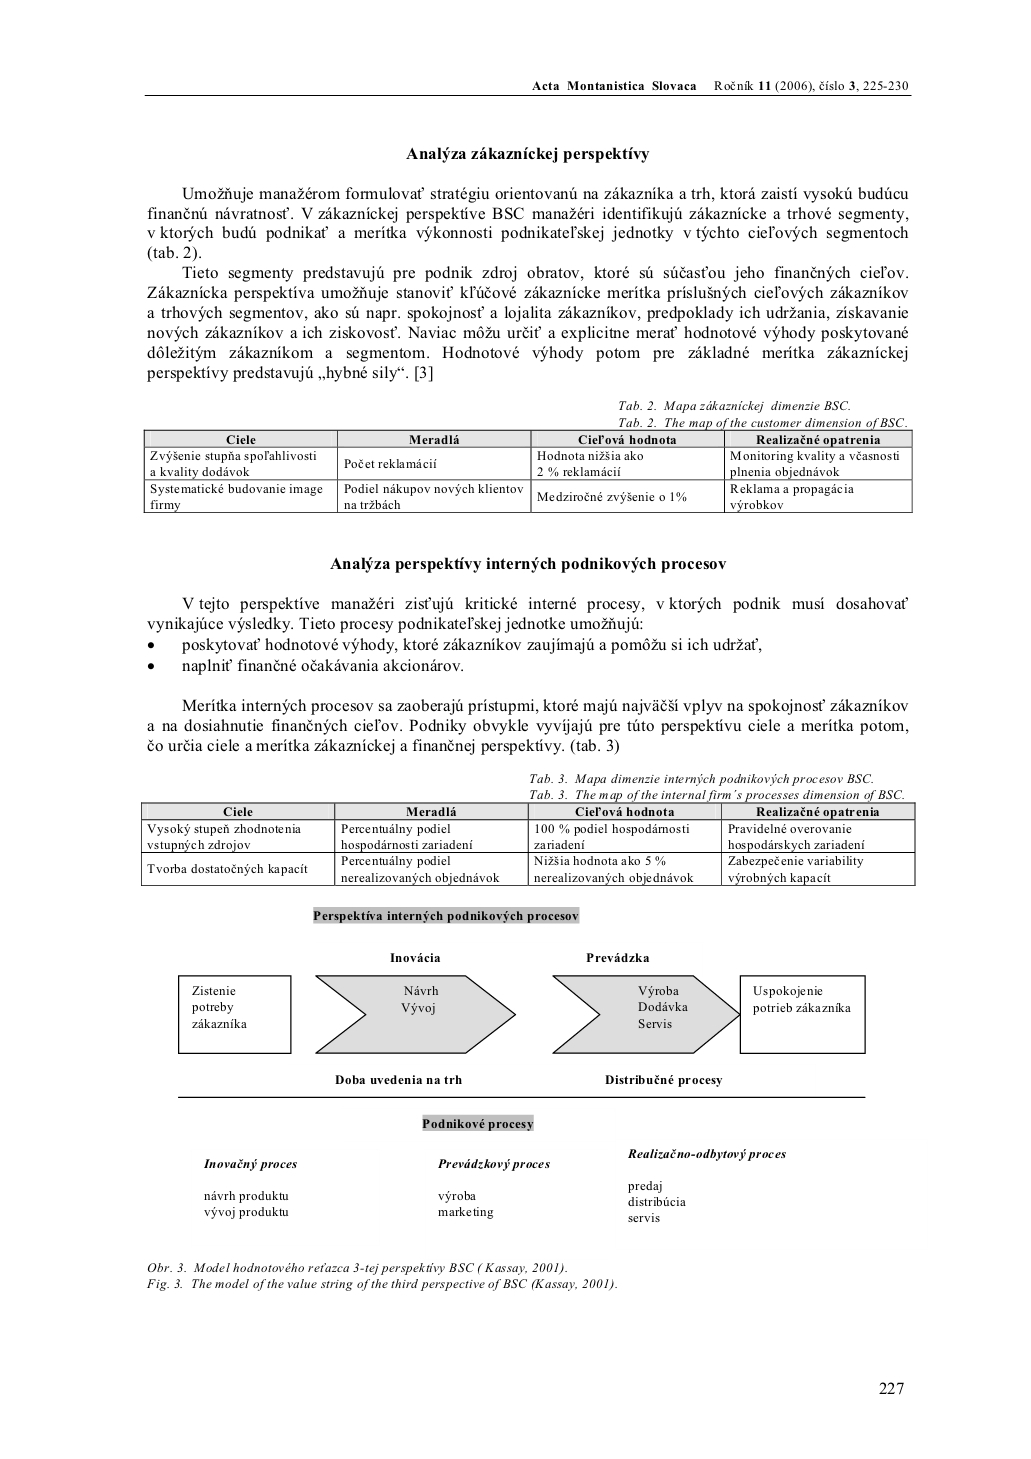Table: (141, 788, 915, 886), (143, 417, 912, 513), (204, 1149, 786, 1223)
figure: (179, 974, 865, 1054), (179, 1095, 865, 1098)
